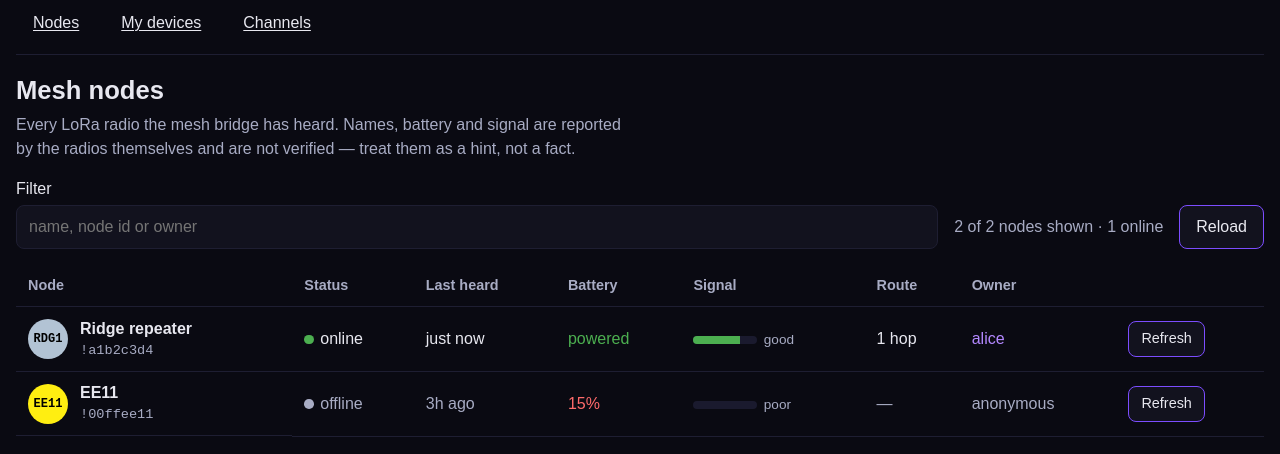
Test: NodesComponent › refreshes one row through GET /bff/mesh/status/{nodeId}
The width and height of the screenshot is (1280, 454).
Click the button with test id "mesh-node-refresh-00ffee11". click: (1167, 404)
box: [1128,386,1205,422]
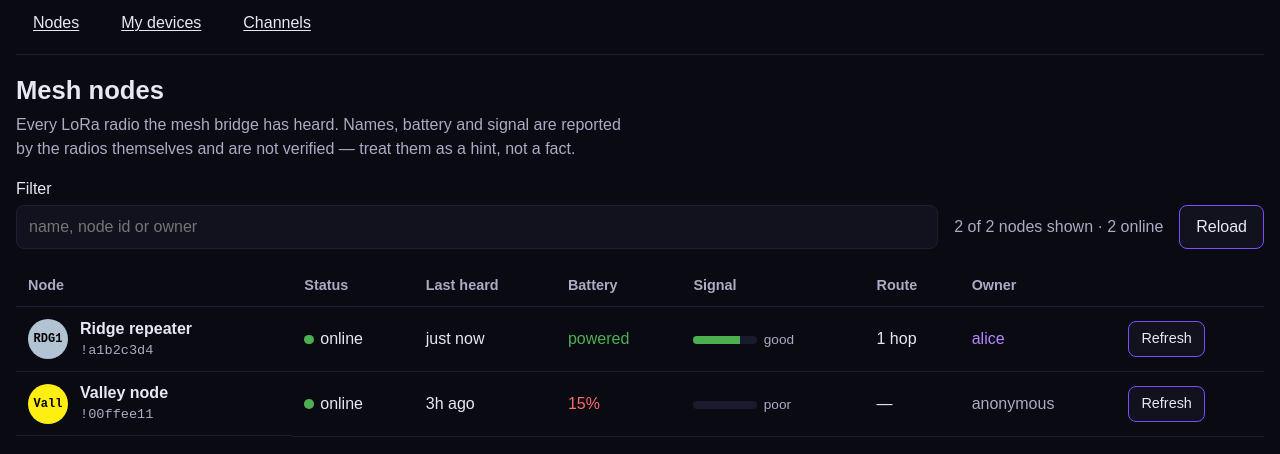
Result: the row with test id "mesh-node-00ffee11" shows "Valley node" at [80,384,168,401]
Result: the row with test id "mesh-node-00ffee11" shows "online" at [320,395,363,412]
